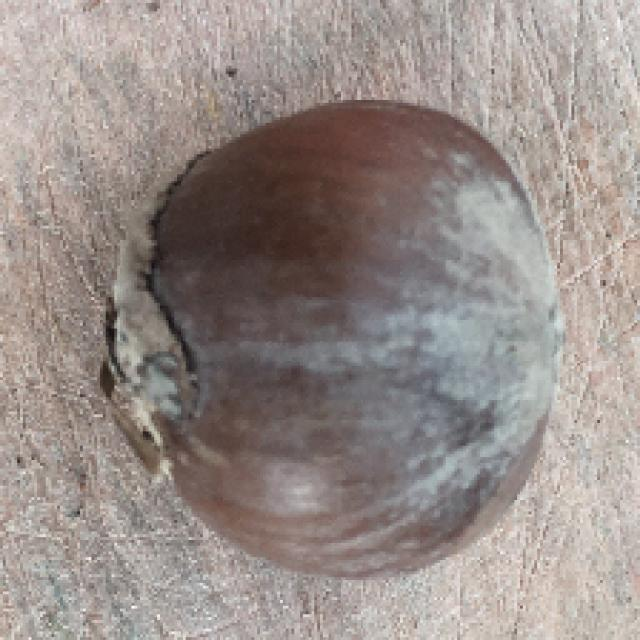damagedHazelnut: (114, 99, 565, 575)
